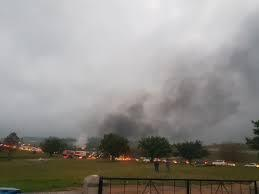fire: (112, 152, 138, 162)
